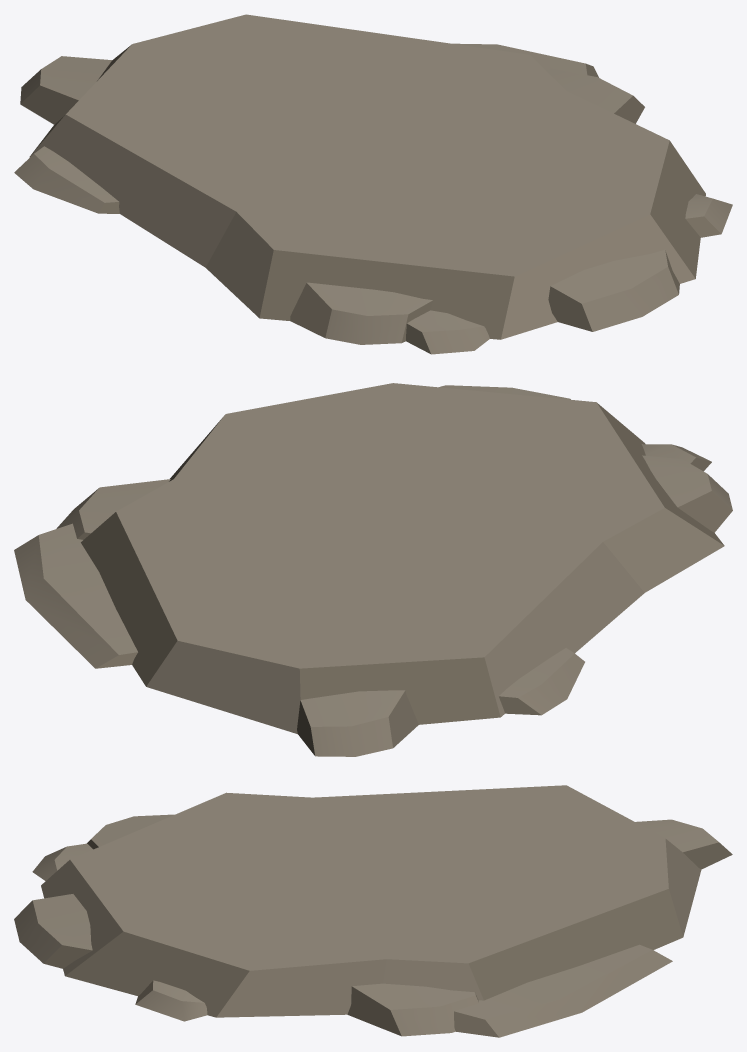
File: SF_Env_Rock_01.fbx
The picture shows the model from 3 angles, top to bottom: view 1: azimuth 30°, elevation 25°; view 2: azimuth 150°, elevation 25°; view 3: azimuth 270°, elevation 25°; orthographic projection. The views are drawn at different scales.
Visible parts, largest first — view 1: SF_Env_Rock_01; view 2: SF_Env_Rock_01; view 3: SF_Env_Rock_01.
Boxes of the visible parts, x1,y1,x2,y2 form: SF_Env_Rock_01: (14, 14, 732, 354); SF_Env_Rock_01: (14, 383, 732, 756); SF_Env_Rock_01: (14, 785, 732, 1037).
Bounding box in the file's own units: 17.92 × 1.38 × 22.92.
